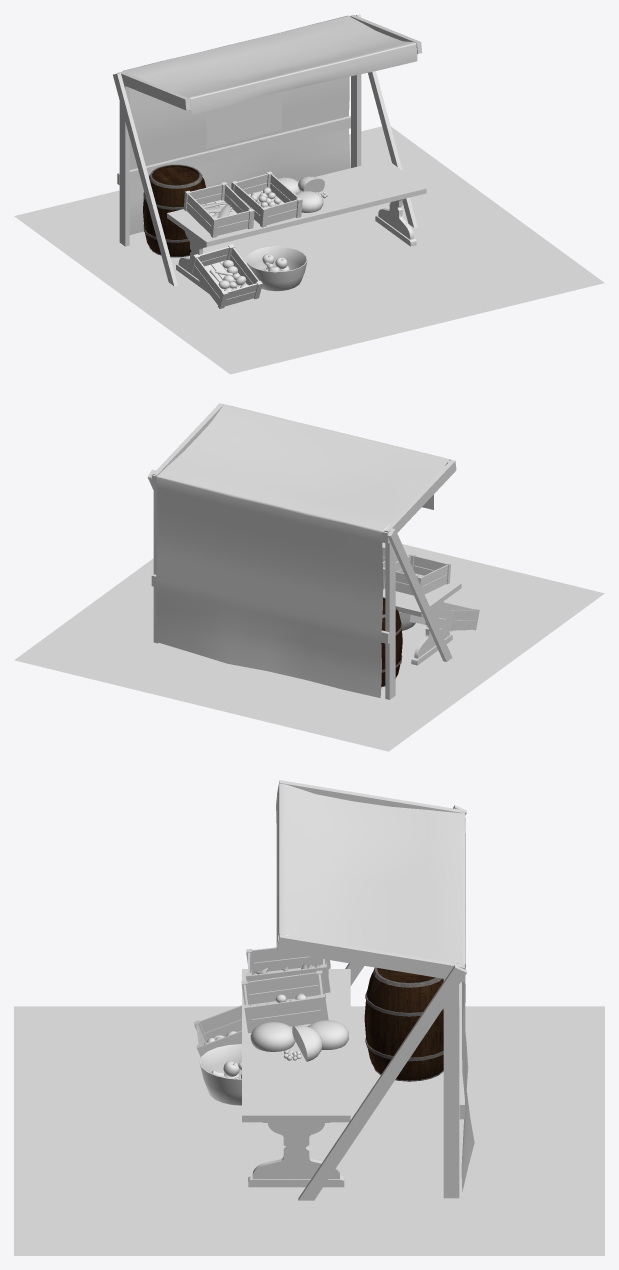
Rendered from food stall.fbx.
3 renders of one model, top to bottom at view 1: azimuth 30°, elevation 25°; view 2: azimuth 150°, elevation 25°; view 3: azimuth 270°, elevation 25°, orthographic. The views are drawn at different scales.
Visible parts, largest first — view 1: ground, Plane, stand, table, barrel, herbs, box.002, box, box.001, basket.001; view 2: Plane, ground, stand, table, box, box.002, barrel; view 3: ground, Plane, stand, table, barrel, box.001, box, basket.001, box.002, bread full, bread full.001, bread half.
Part boxes in pixels (<box>): ground: <box>14,126,604,374</box>; Plane: <box>122,15,417,234</box>; stand: <box>113,14,422,286</box>; table: <box>167,159,426,293</box>; barrel: <box>143,164,205,257</box>; herbs: <box>206,91,281,148</box>; box.002: <box>189,244,262,308</box>; box: <box>183,182,254,237</box>; box.001: <box>231,171,302,227</box>; basket.001: <box>246,246,307,291</box>; Plane: <box>156,404,450,697</box>; ground: <box>14,542,604,751</box>; stand: <box>147,403,456,699</box>; table: <box>383,580,461,665</box>; box: <box>383,554,450,595</box>; box.002: <box>409,602,479,631</box>; barrel: <box>381,597,402,687</box>; ground: <box>14,1006,604,1255</box>; Plane: <box>276,783,474,1191</box>; stand: <box>277,780,466,1200</box>; table: <box>242,969,350,1187</box>; barrel: <box>364,967,443,1081</box>; box.001: <box>241,970,328,1033</box>; box: <box>245,947,330,992</box>; basket.001: <box>199,1044,241,1105</box>; box.002: <box>194,1005,241,1057</box>; bread full: <box>250,1022,295,1051</box>; bread full.001: <box>308,1020,348,1049</box>; bread half: <box>292,1025,322,1061</box>.
Size of the model in its own units: 1744 by 855 by 1744.
